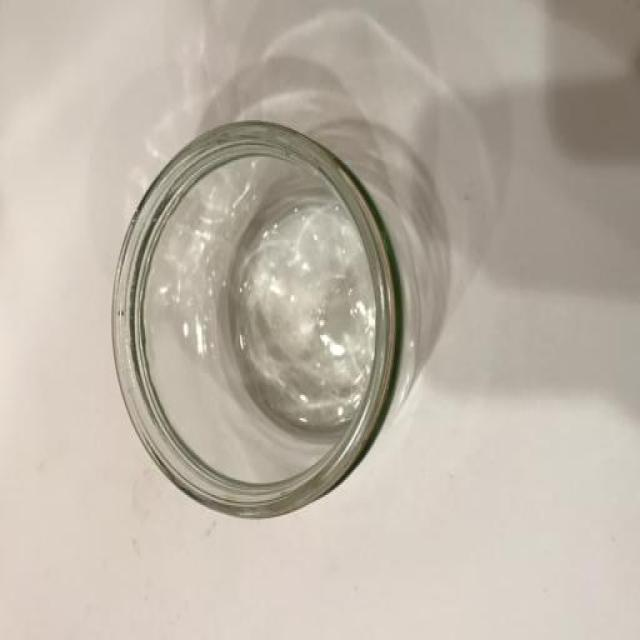glass: (91, 99, 475, 538)
